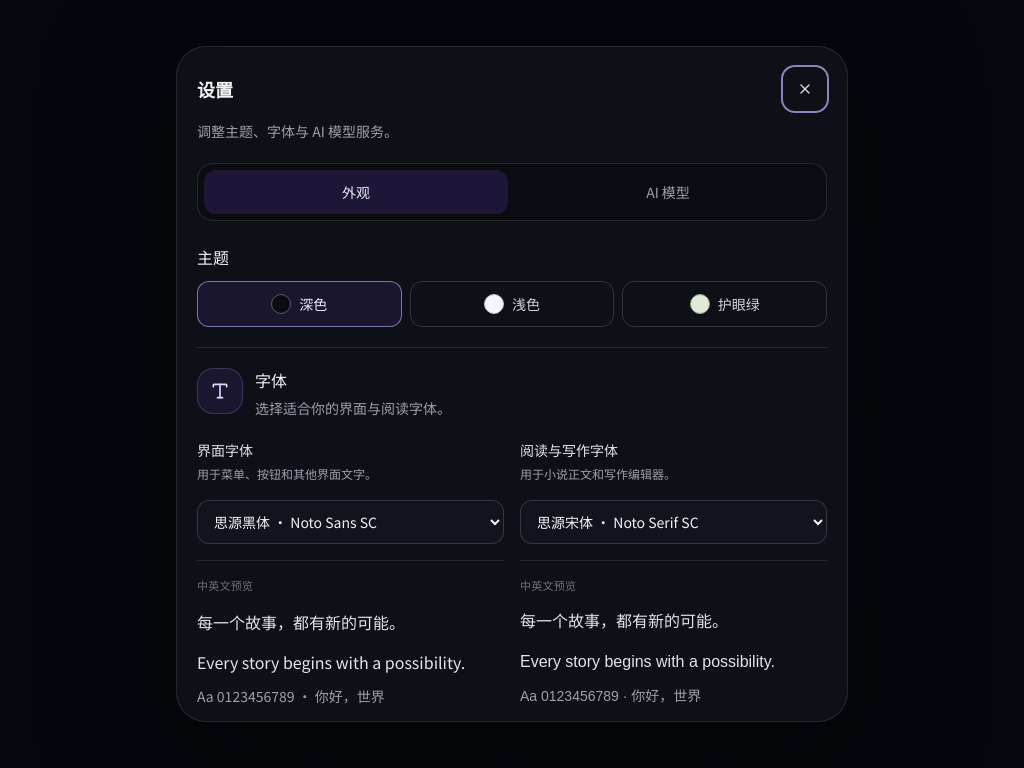
Test case: WorkspaceAISettingsModal › offers local installation alongside connections without changing the provider merely by opening it
The width and height of the screenshot is (1024, 768).
Click the button "AI 模型".
click(668, 192)  # box [516,170,820,214]
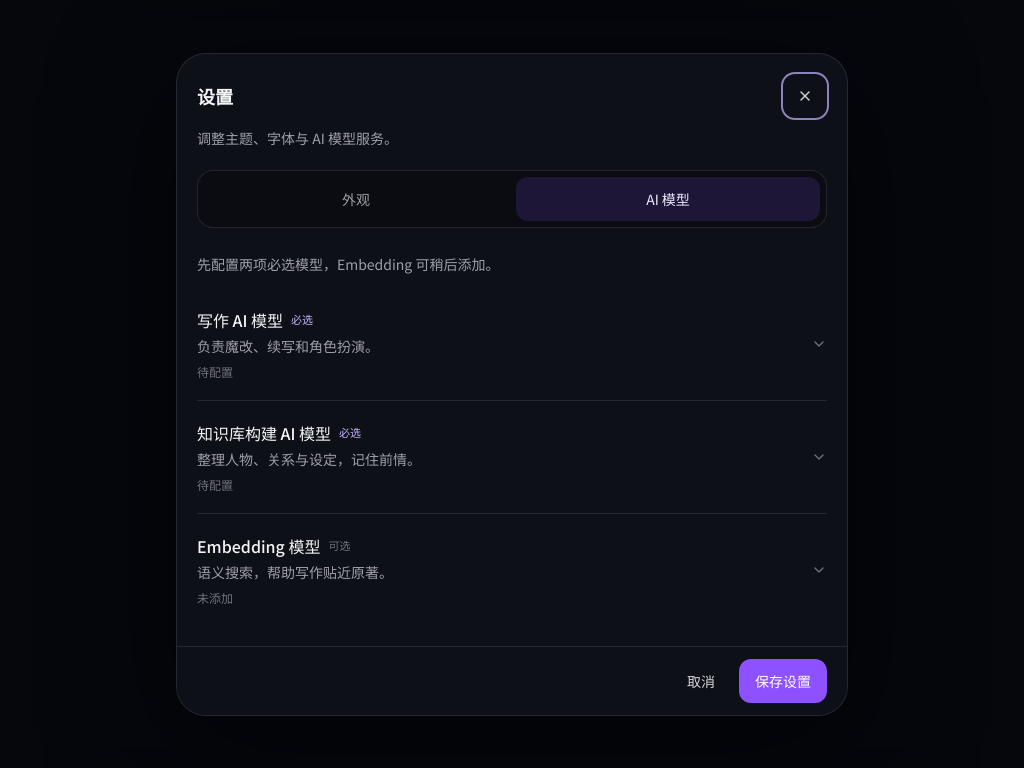
Click the button "Embedding 模型 可选 语义搜索，帮助写作贴近原著。 未添加".
click(259, 546)  # box [197,514,827,626]
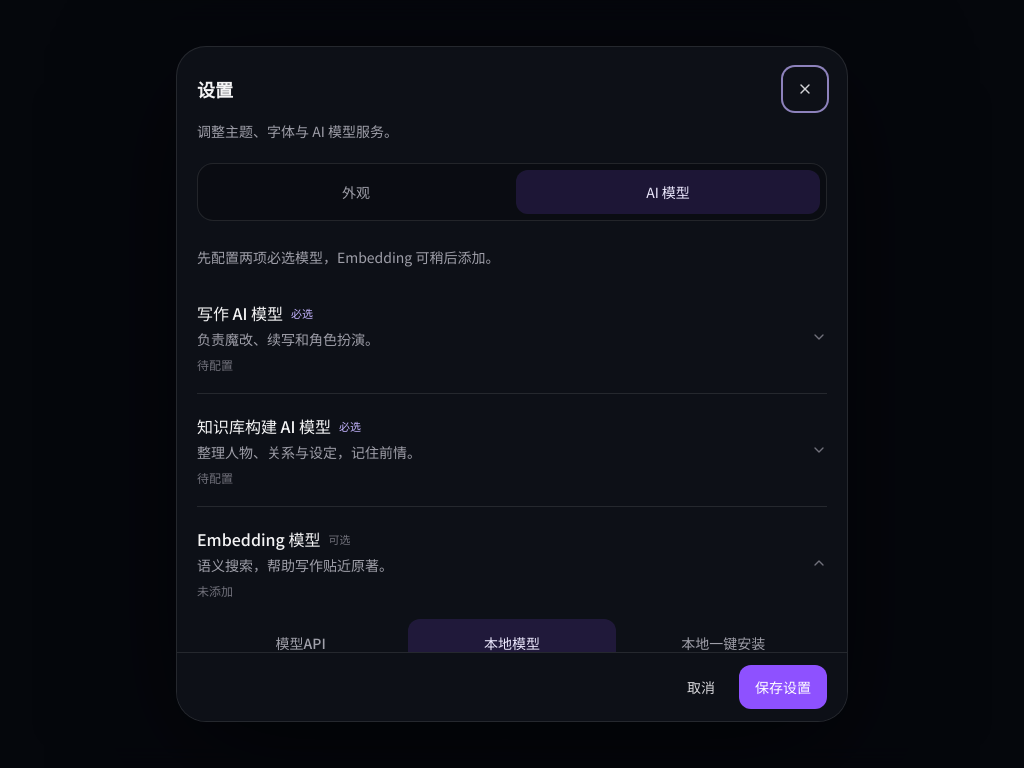
Expected: the button "模型API" is shown, [197,619,404,652]
Click the button "本地一键安装".
click(723, 643)  # box [620,619,827,667]
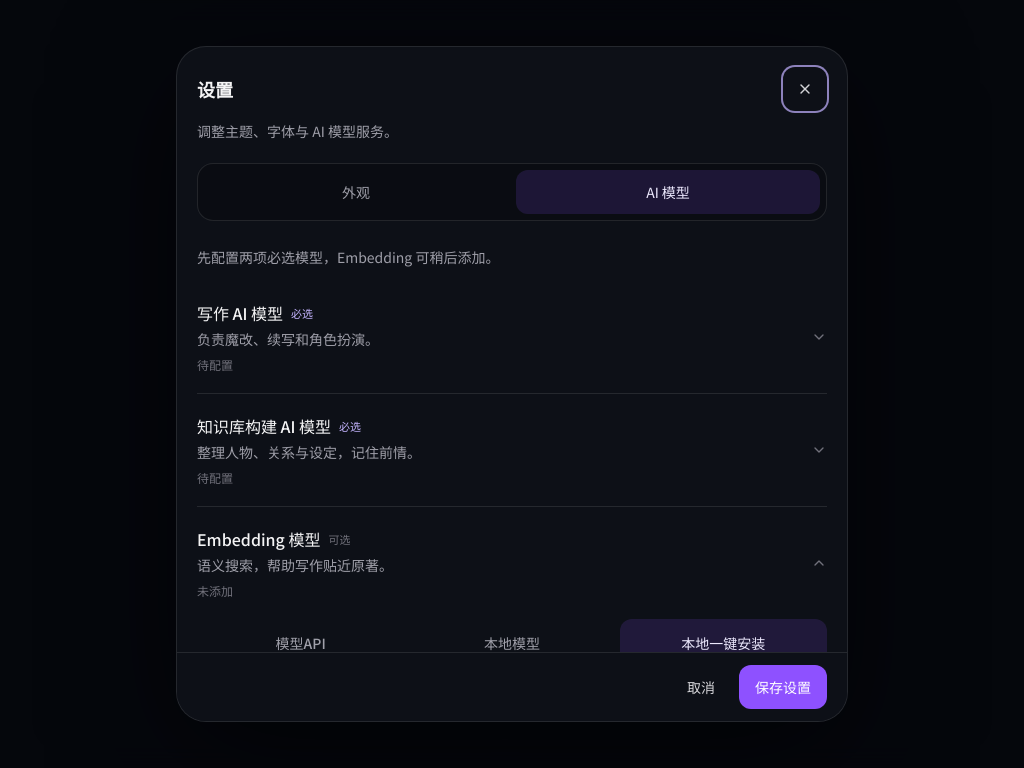
Expected: the dropdown labelled "Model" is not shown
Expected: the button "本地模型" is not pressed, [408,619,616,652]
Click the button "本地模型".
click(512, 643)  # box [408,619,616,667]
(page scrolled)
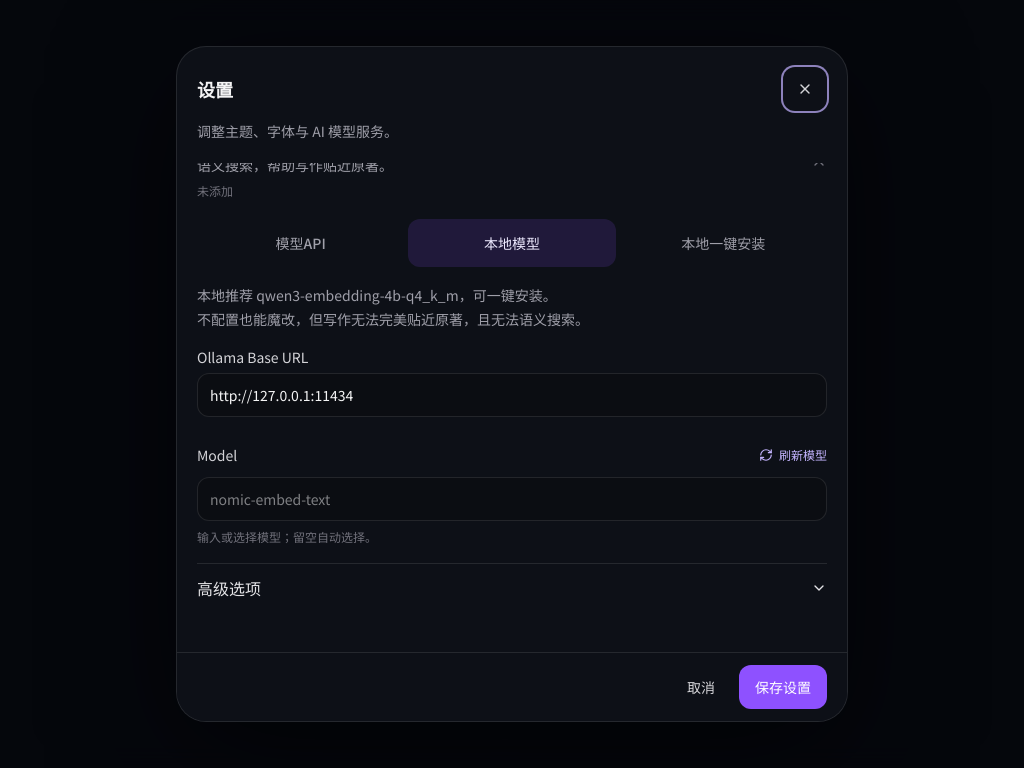
Expected: the text "建议运行 ReTale 的设备具备至少 16GB" is not shown
Expected: the field labelled "Model" is shown, [197,477,827,521]
